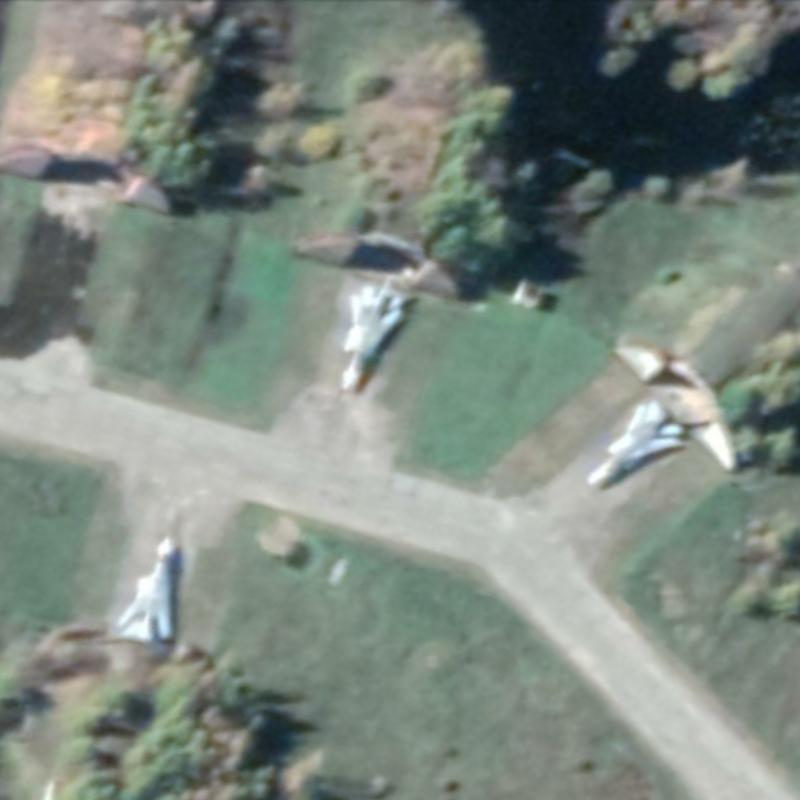A20: (584, 397, 687, 487), (338, 283, 406, 393), (114, 533, 177, 644)
